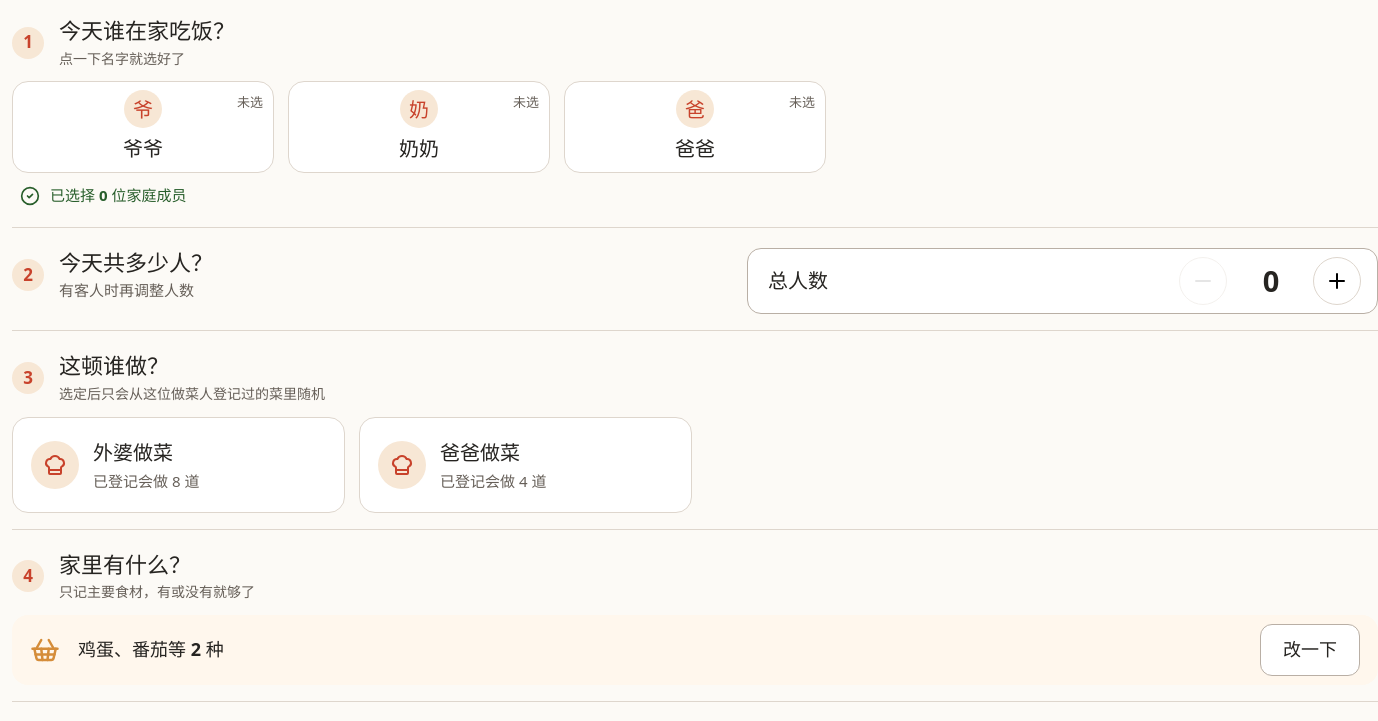
Scenario: MealSetup › keeps registered diners and total people separate while auto-counting selected members
The width and height of the screenshot is (1378, 721).
Click the button named "选择爷爷" at (143, 127), box [12,81,274,173]
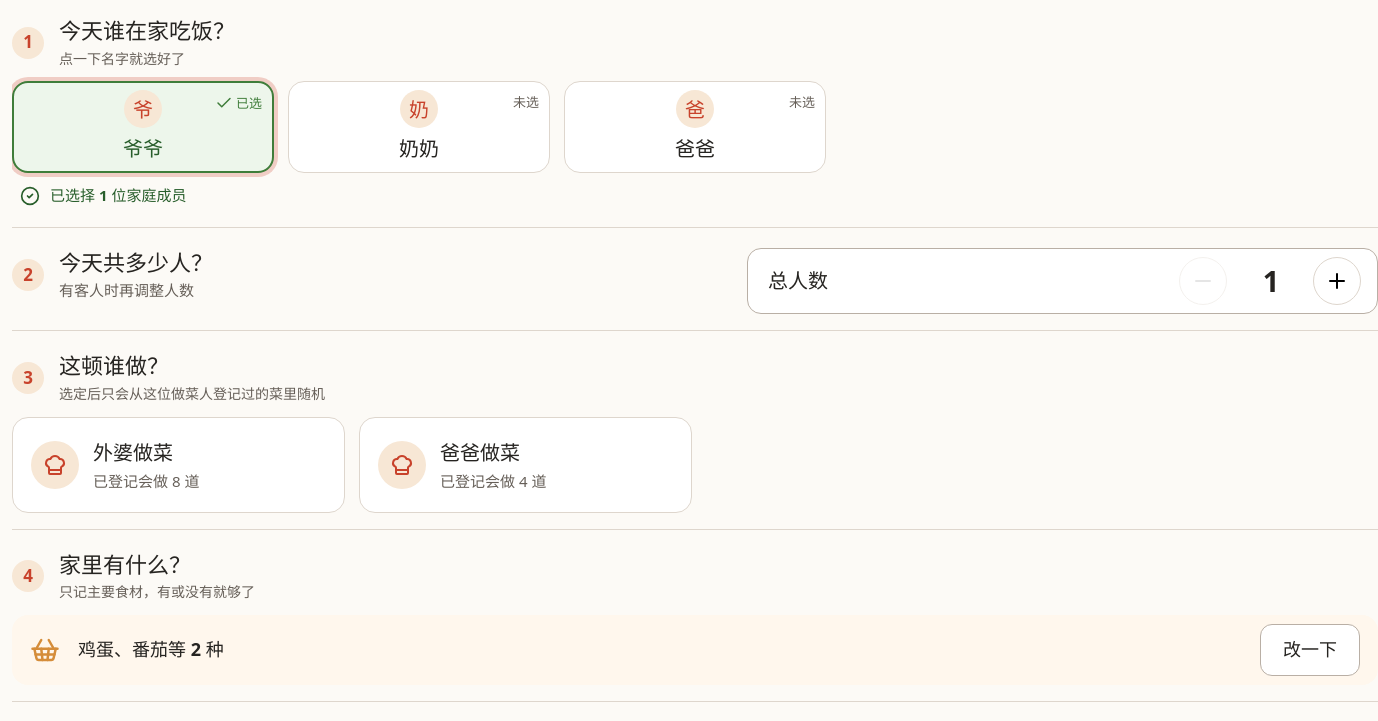
Click the button named "选择奶奶" at (419, 127), box [288,81,550,173]
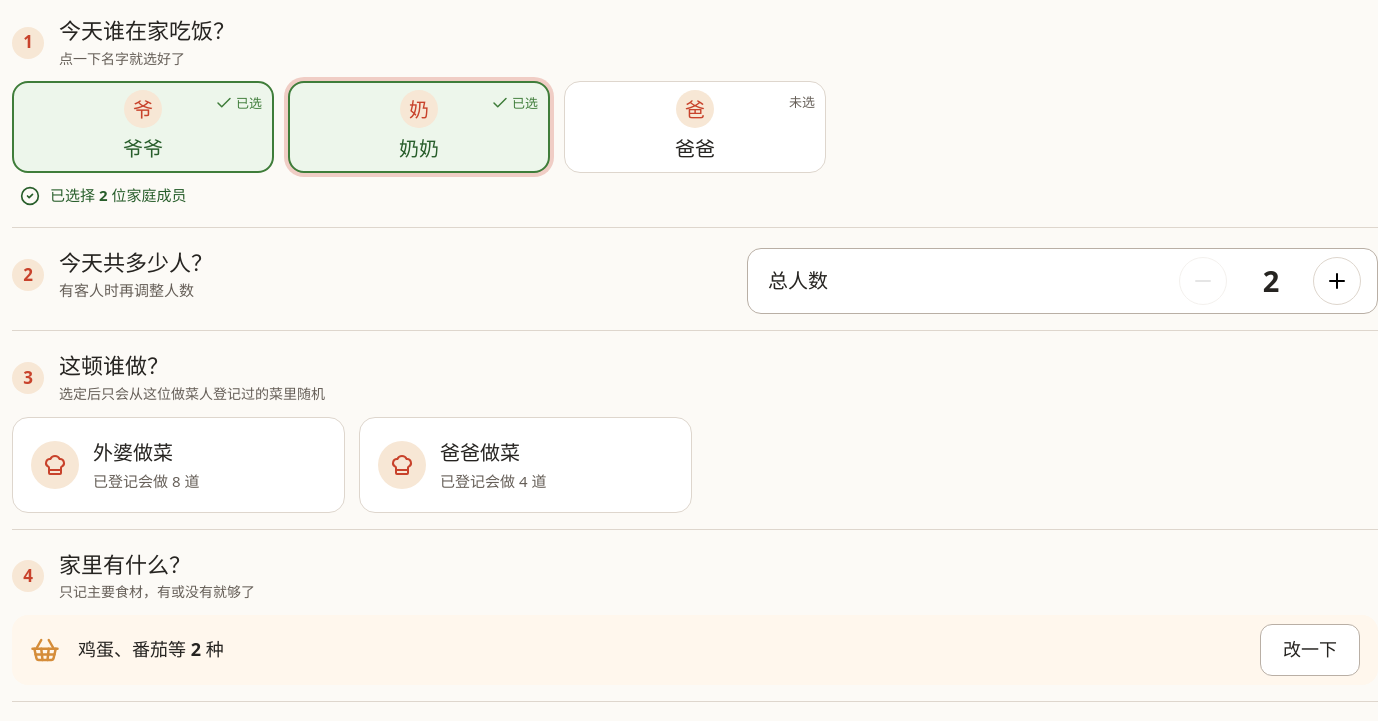
Expected: the text "已选择 2 位家庭成员" is shown, [12,181,194,211]
Expected: the element labelled "总人数" shows "2", [1263,262,1279,300]
Click the button named "增加总人数" at (1337, 281), box [1313,257,1361,305]
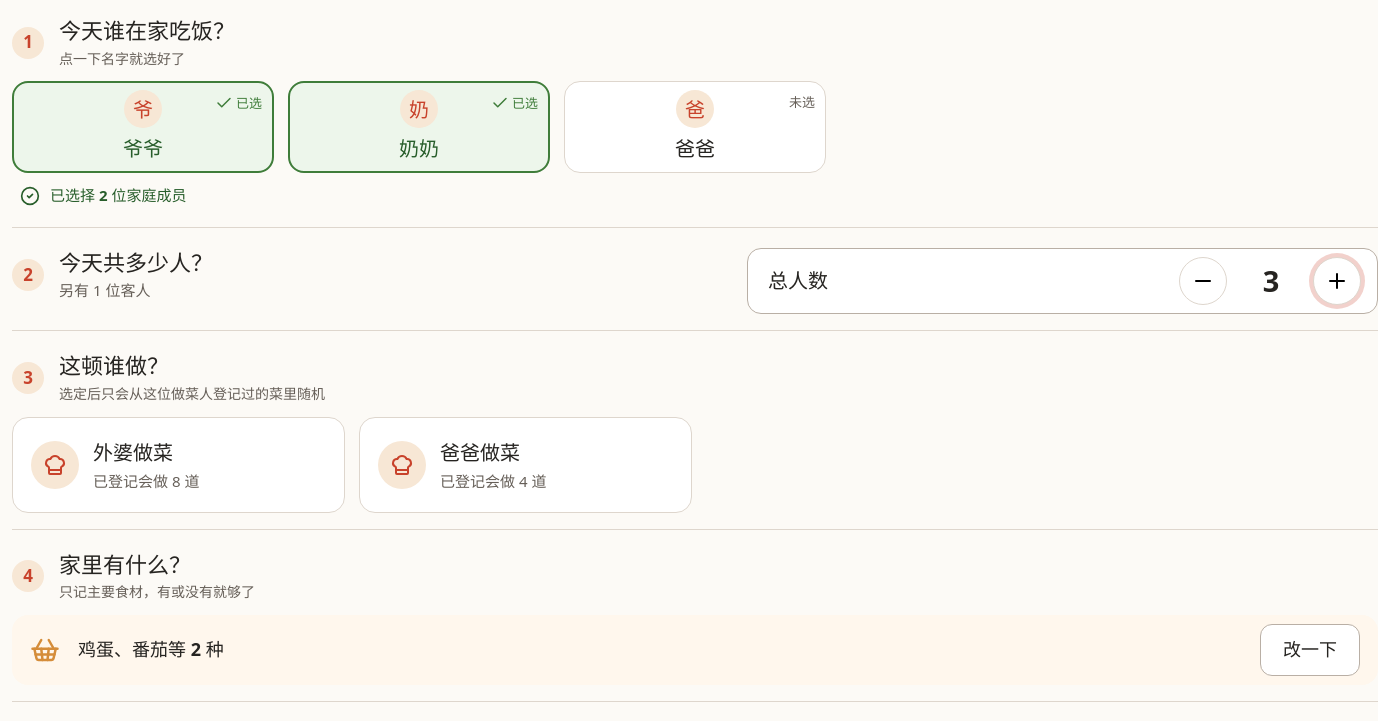
Expected: the element labelled "总人数" shows "3", [1263,262,1279,300]
Expected: the text "另有 1 位客人" is shown, [59,280,150,300]
